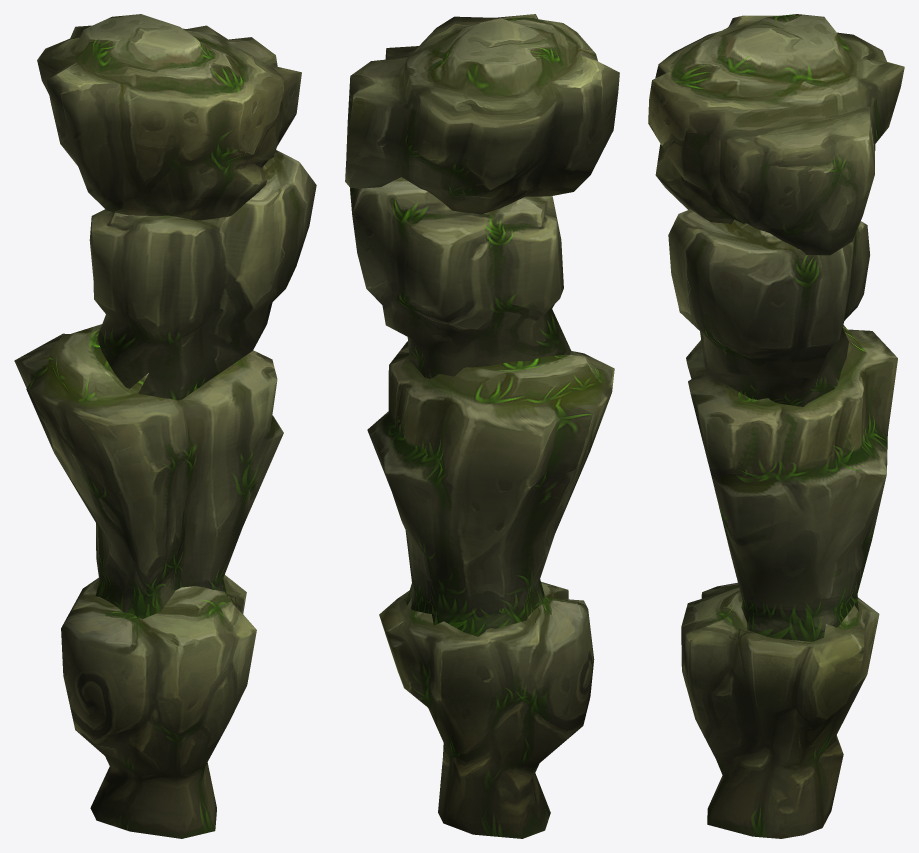
File: Rock_Formation_02_12.fbx
The picture shows the model from 3 angles, left to right: view 1: azimuth 30°, elevation 25°; view 2: azimuth 150°, elevation 25°; view 3: azimuth 270°, elevation 25°; orthographic projection.
Parts seen in each view (by area): view 1: Rock_Formation_02_12; view 2: Rock_Formation_02_12; view 3: Rock_Formation_02_12.
Boxes of the visible parts, x1,y1,x2,y2 form: Rock_Formation_02_12: [14, 14, 316, 838]; Rock_Formation_02_12: [345, 14, 619, 838]; Rock_Formation_02_12: [648, 14, 904, 838].
Size of the model in its own units: 197 by 568 by 171.
